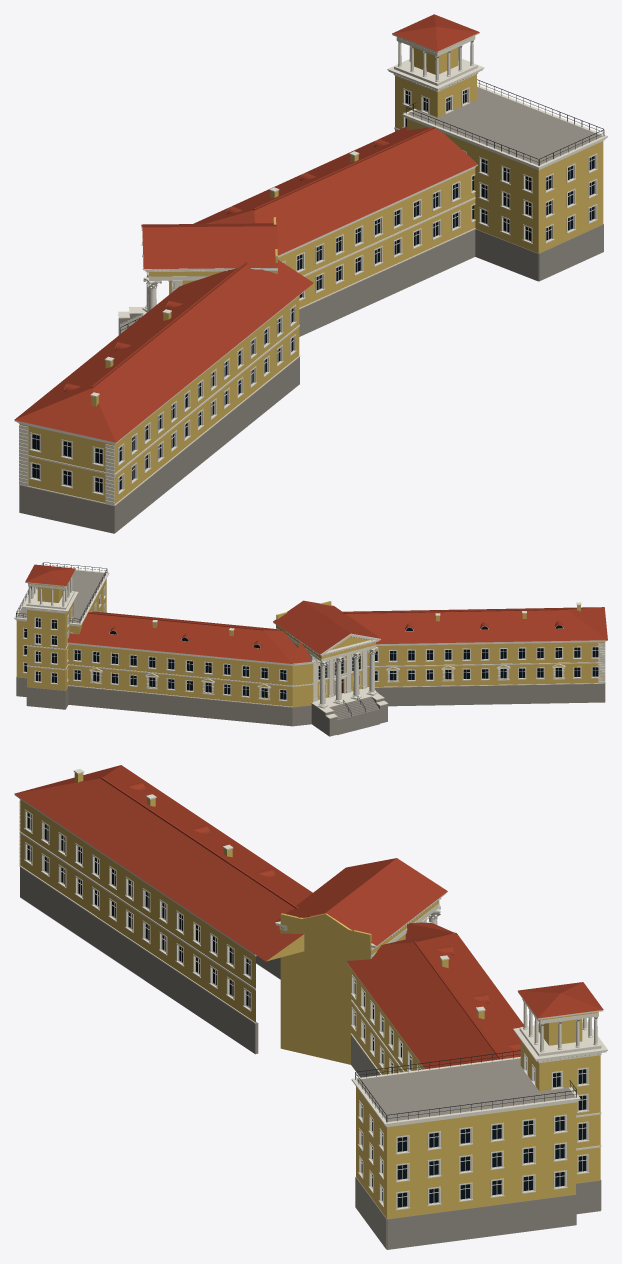
Rendered from hospital.glb.
The picture shows the model from 3 angles, top to bottom: view 1: azimuth 30°, elevation 25°; view 2: azimuth 150°, elevation 25°; view 3: azimuth 270°, elevation 25°; orthographic projection. The views are drawn at different scales.
Parts seen in each view (by area): view 1: hospital_roof, hospital_wall, hospital_stone, hospital_trim, hospital_glass, hospital_trim_s, hospital_metal; view 2: hospital_wall, hospital_roof, hospital_stone, hospital_trim, hospital_glass, hospital_trim_s, hospital_metal; view 3: hospital_roof, hospital_wall, hospital_stone, hospital_trim, hospital_glass, hospital_metal, hospital_trim_s.
Part boxes in pixels (x1,y1,x2,y2): hospital_roof: (14,14,479,442); hospital_wall: (19,36,603,504); hospital_stone: (19,87,603,533); hospital_trim: (14,32,607,505); hospital_glass: (32,90,594,492); hospital_trim_s: (141,40,473,311); hospital_metal: (120,79,604,333); hospital_wall: (16,579,604,707); hospital_roof: (25,564,607,663); hospital_stone: (16,570,605,736); hospital_trim: (14,569,607,718); hospital_glass: (24,599,598,699); hospital_trim_s: (28,576,378,706); hospital_metal: (16,562,365,716); hospital_roof: (14,765,603,1068); hospital_wall: (20,772,600,1218); hospital_stone: (20,867,601,1249); hospital_trim: (14,769,607,1210); hospital_glass: (27,813,586,1207); hospital_metal: (355,1050,576,1122); hospital_trim_s: (428,907,597,1052).
Bounding box in the file's own units: 107 × 27.17 × 69.66.
